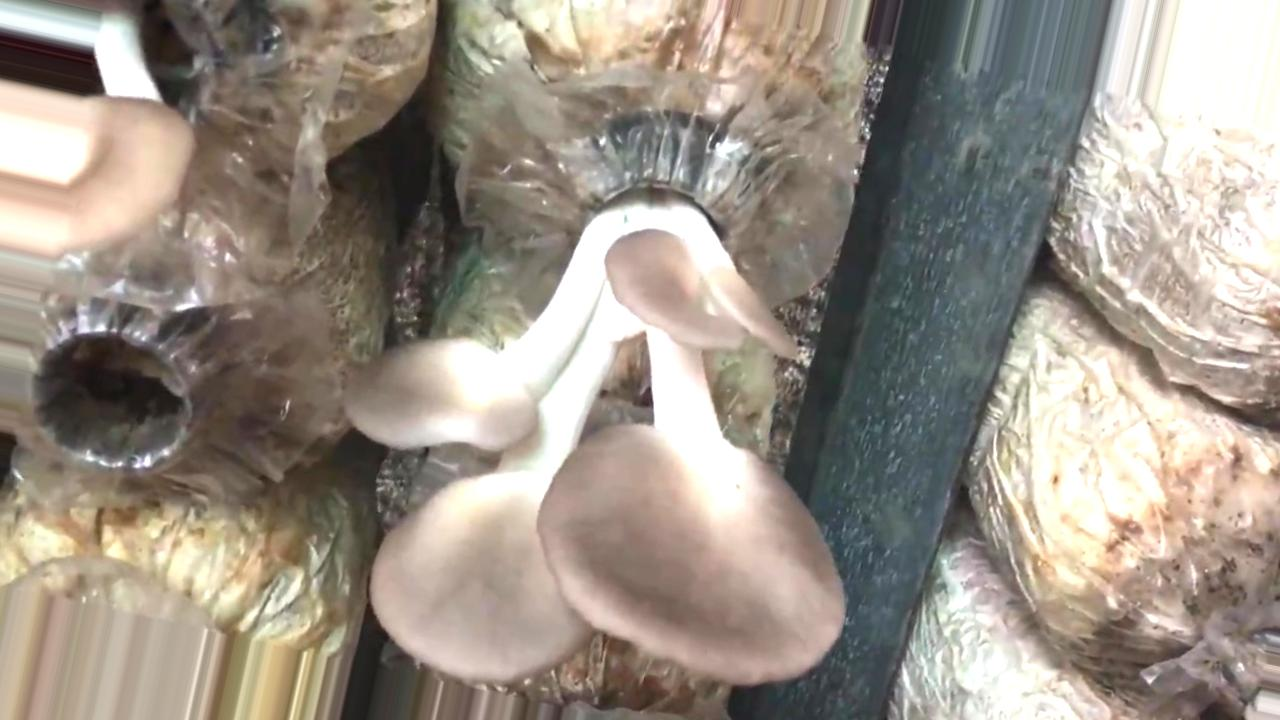nam: (346, 128, 845, 688), (1, 3, 196, 252)
